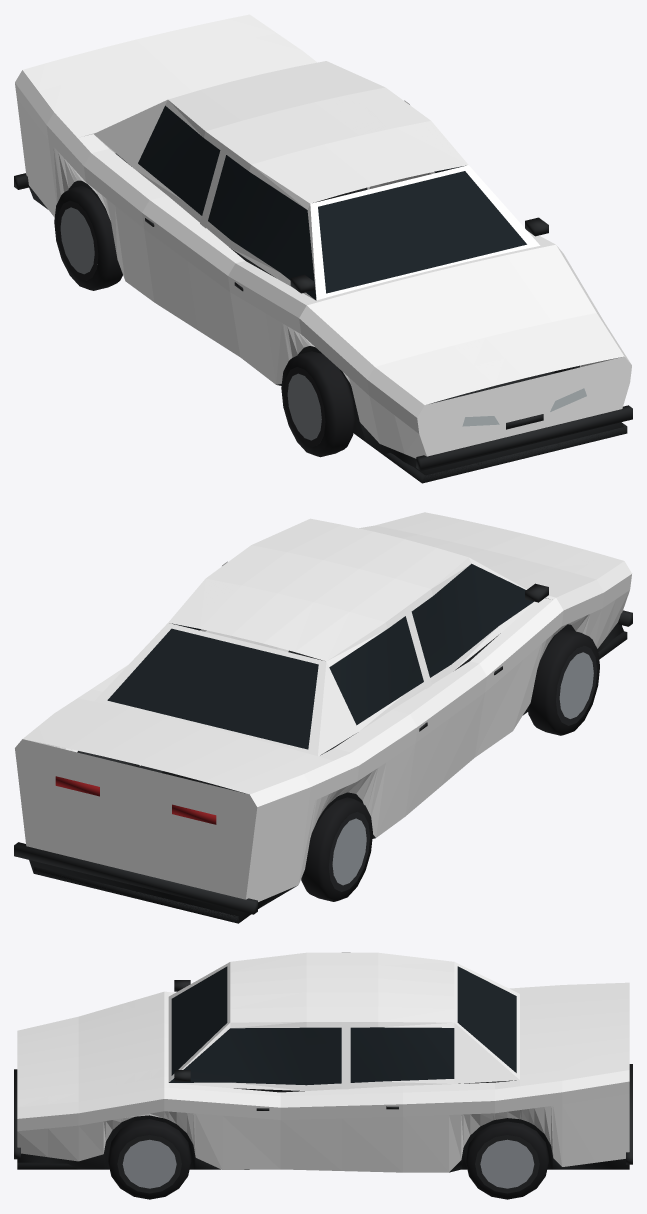
Rendered from vorhaus_marulho.glb.
3 views of the same model, one above another, from view 1: azimuth 30°, elevation 25°; view 2: azimuth 150°, elevation 25°; view 3: azimuth 270°, elevation 25° (orthographic). The views are drawn at different scales.
Parts seen in each view (by area): view 1: Body_Paint, Body_Details, Mount_FrontLeft_Wheel_Details, Mount_RearLeft_Wheel_Details; view 2: Body_Paint, Body_Details, Mount_FrontLeft_Wheel_Details, Mount_RearLeft_Wheel_Details; view 3: Body_Paint, Body_Details, Mount_FrontRight_Wheel_Details, Mount_RearRight_Wheel_Details.
Boxes of the visible parts, x1=… form: Body_Paint: x1=15, y1=14, x2=631, y2=458; Body_Details: x1=14, y1=105, x2=632, y2=483; Mount_FrontLeft_Wheel_Details: x1=281, y1=351, x2=354, y2=457; Mount_RearLeft_Wheel_Details: x1=54, y1=186, x2=122, y2=290; Body_Paint: x1=15, y1=512, x2=631, y2=901; Body_Details: x1=14, y1=563, x2=632, y2=923; Mount_FrontLeft_Wheel_Details: x1=527, y1=629, x2=599, y2=735; Mount_RearLeft_Wheel_Details: x1=301, y1=797, x2=372, y2=901; Body_Paint: x1=17, y1=952, x2=629, y2=1172; Body_Details: x1=14, y1=966, x2=632, y2=1172; Mount_FrontRight_Wheel_Details: x1=108, y1=1119, x2=191, y2=1199; Mount_RearRight_Wheel_Details: x1=465, y1=1121, x2=548, y2=1199.
Size of the model in its own units: 1.99 by 1.44 by 4.91.
Materials: 2 (1 with a texture image).
